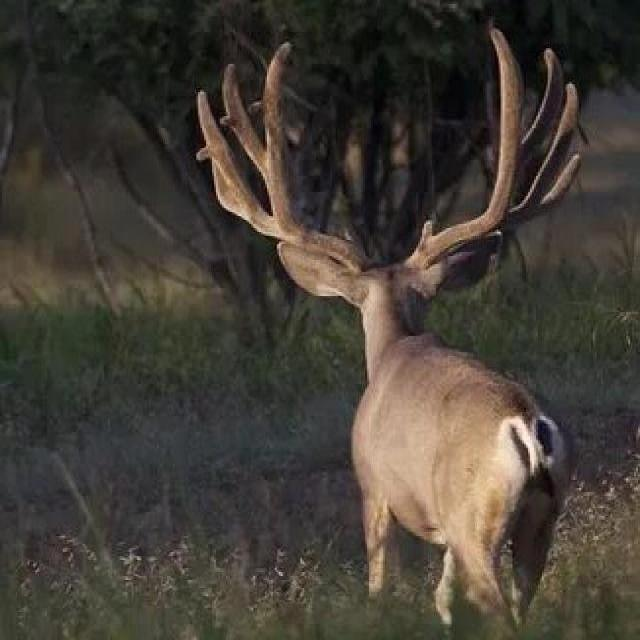deer: (171, 68, 640, 640)
